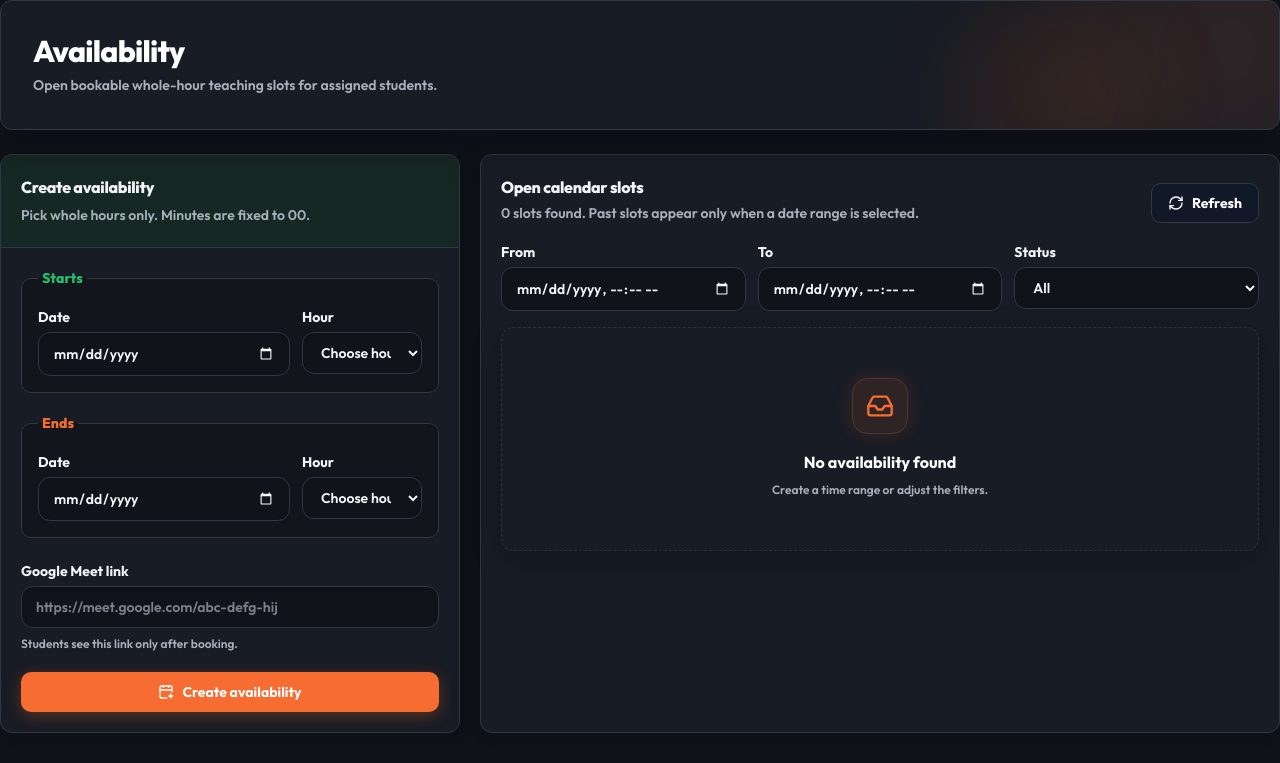
Test: Teacher workspace › submits Google Meet link when creating availability
Type "2026-07-23" into the date field with test id "teacher-availability-start-date" at (164, 354), box top-left (38, 332), bottom-right (290, 376)
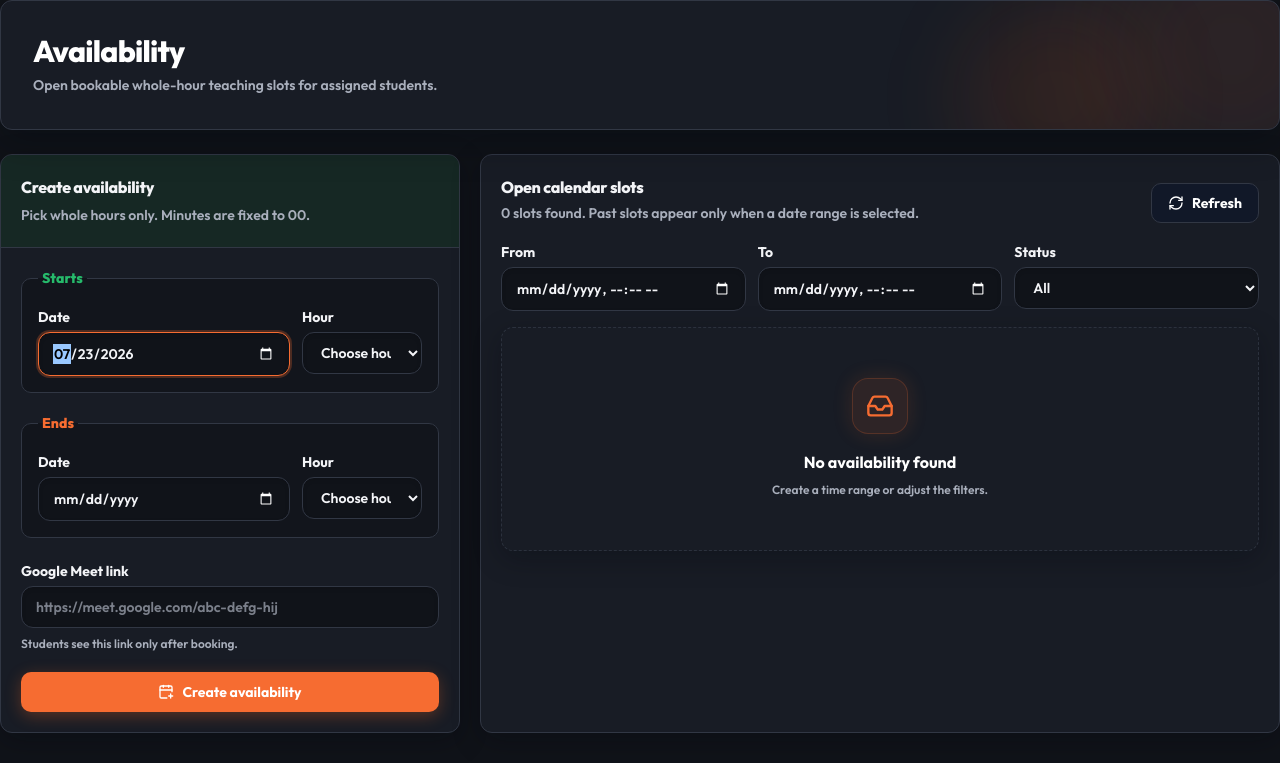
Select "10h" in the dropdown with test id "teacher-availability-start-hour" at (362, 353), box top-left (302, 332), bottom-right (422, 374)
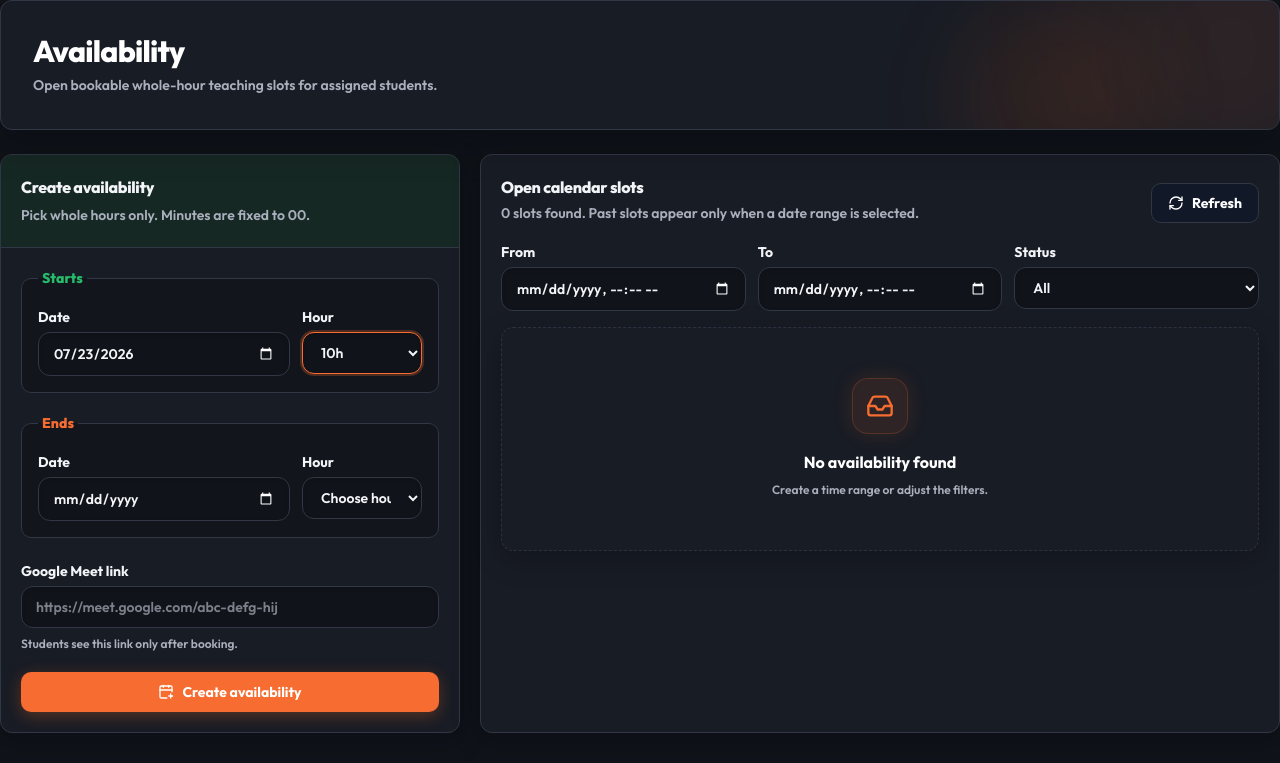
Type "2026-07-23" into the date field with test id "teacher-availability-end-date" at (164, 499), box top-left (38, 477), bottom-right (290, 521)
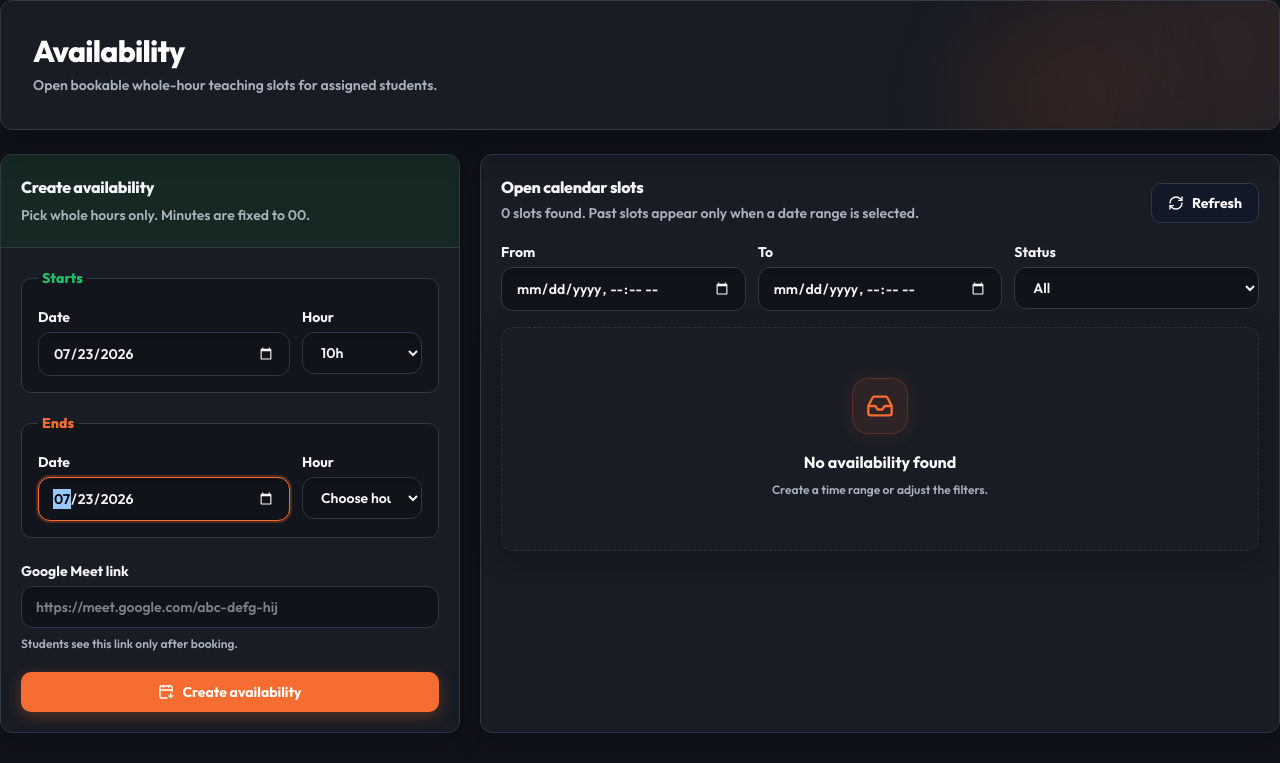
Select "11h" in the dropdown with test id "teacher-availability-end-hour" at (362, 498), box top-left (302, 477), bottom-right (422, 519)
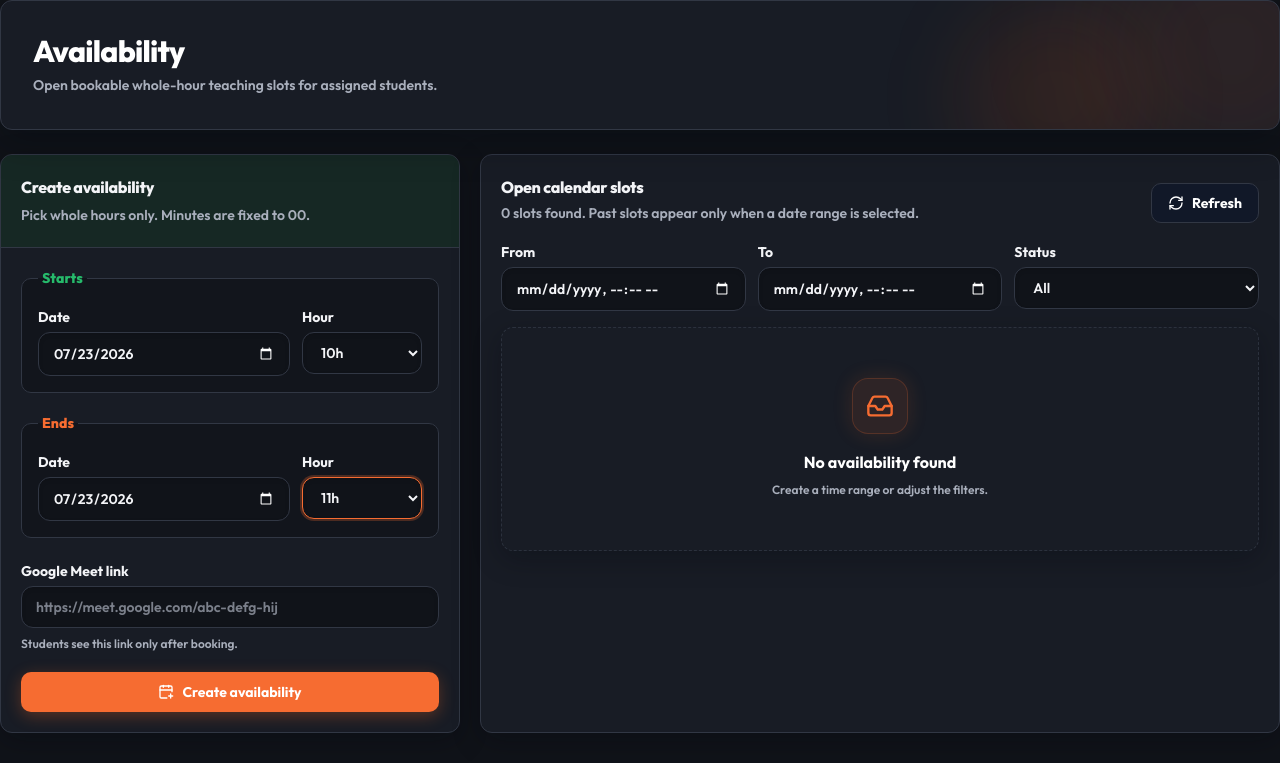
Type "  https://meet.google.com/abc-defg-hij  " into the field with test id "teacher-availability-meet-link" at (230, 607), box top-left (21, 586), bottom-right (439, 628)
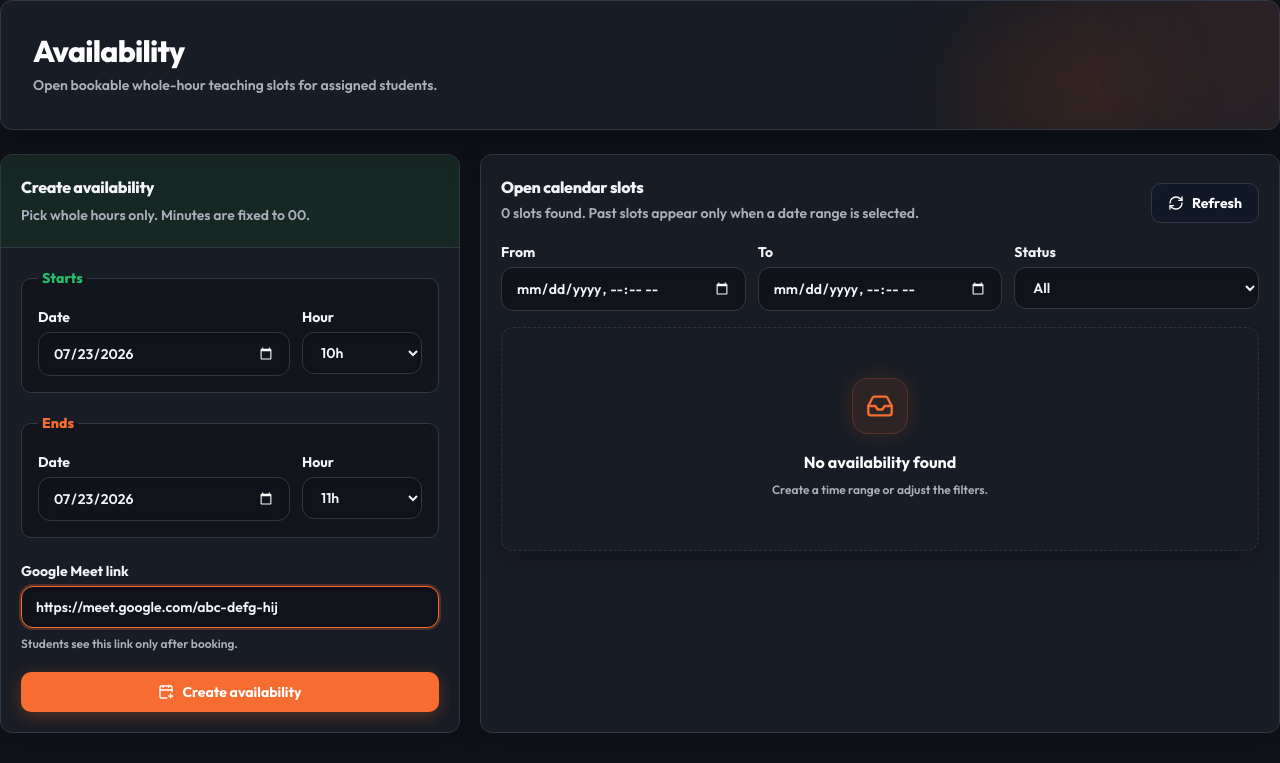
Click the button "Create availability" at (230, 692), box top-left (21, 672), bottom-right (439, 712)
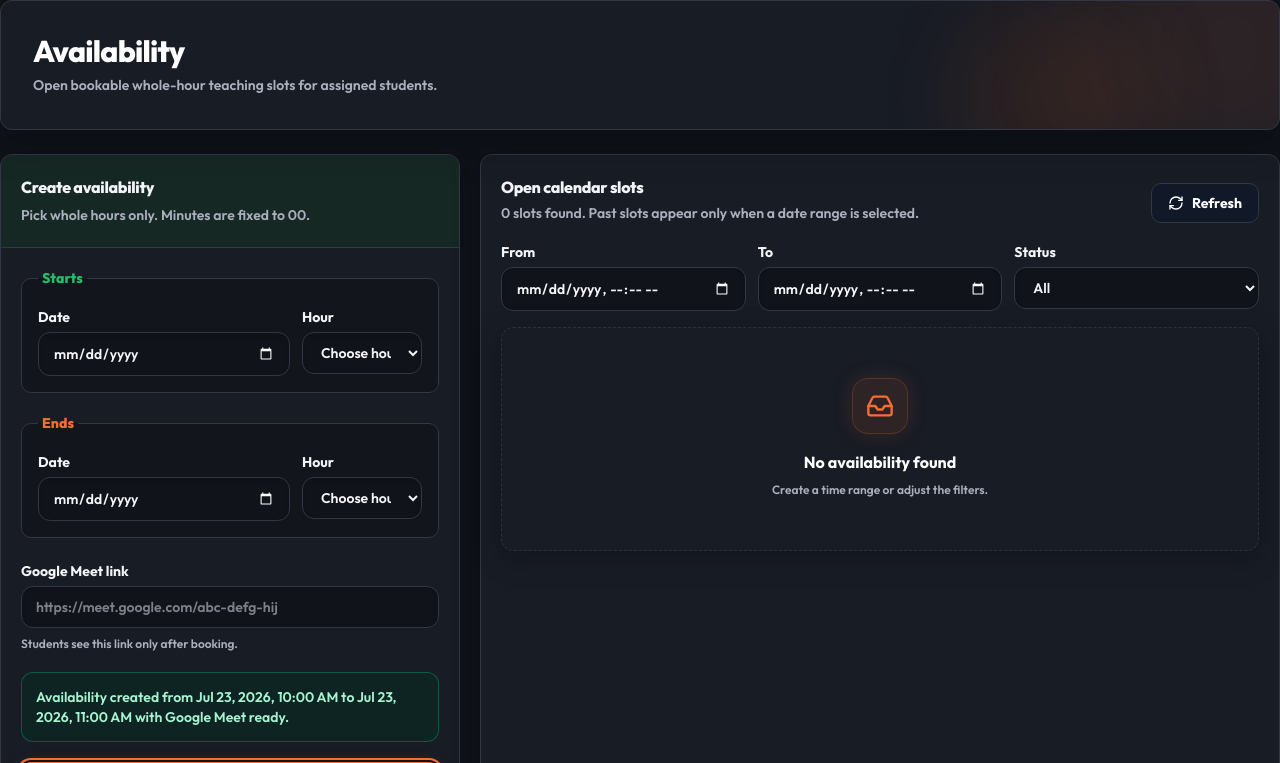
Expected: the text with test id "availability-success" shows "Google Meet ready", top-left (132, 708), bottom-right (289, 726)
